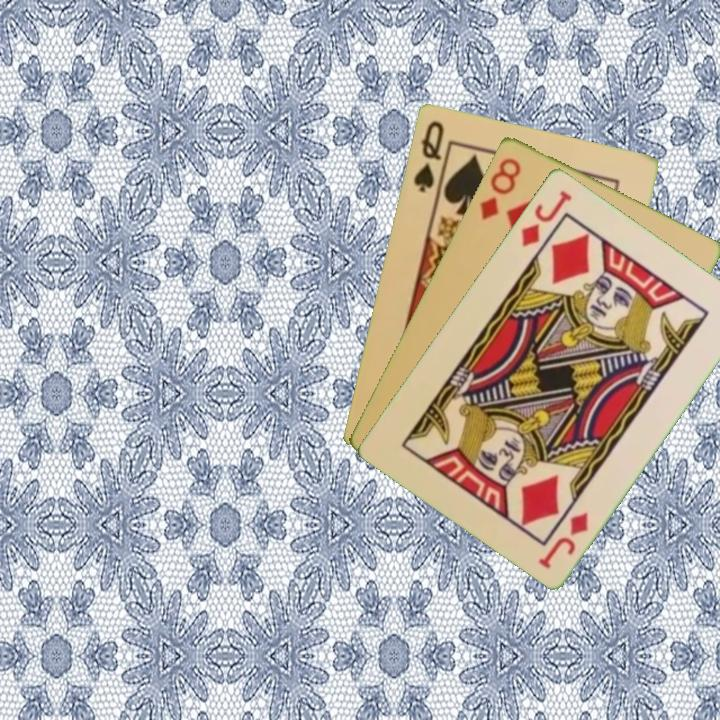8d: (476, 153, 524, 223)
Jd: (517, 185, 575, 249), (535, 507, 591, 571)
Qs: (409, 117, 447, 195)
